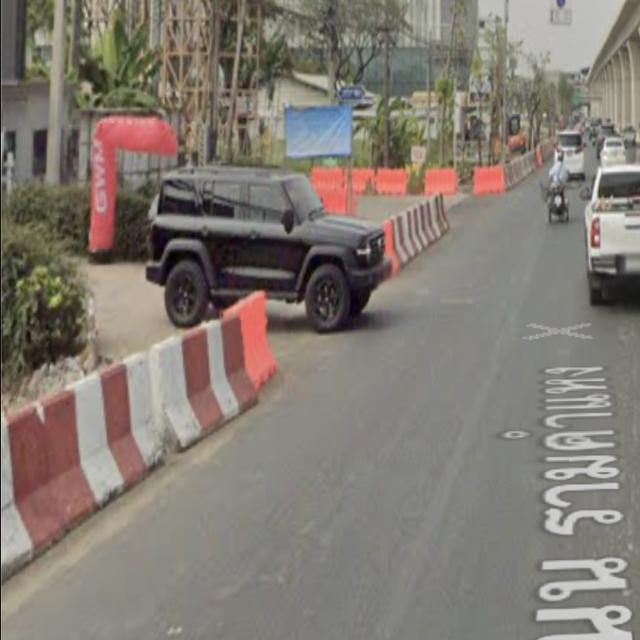fallen_object: (0, 380, 108, 562), (146, 292, 278, 436), (67, 336, 177, 496), (300, 157, 517, 198), (365, 182, 464, 266), (489, 126, 547, 191)
